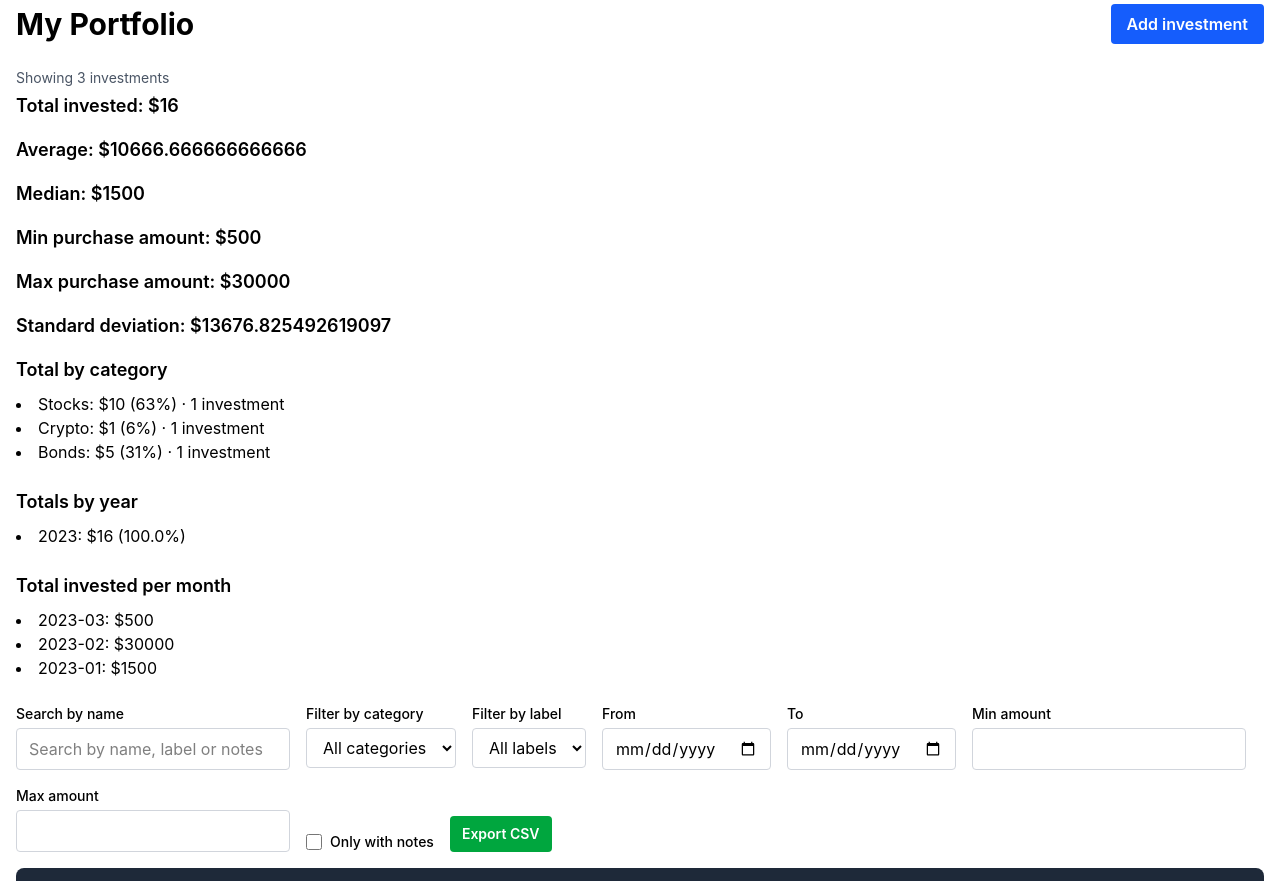
Test case: HomePage › filter by category › AC-003: selecting "All categories" shows every investment again
Select "Stocks" in the dropdown labelled "Filter by category": [381, 748] box [306,728,456,768]
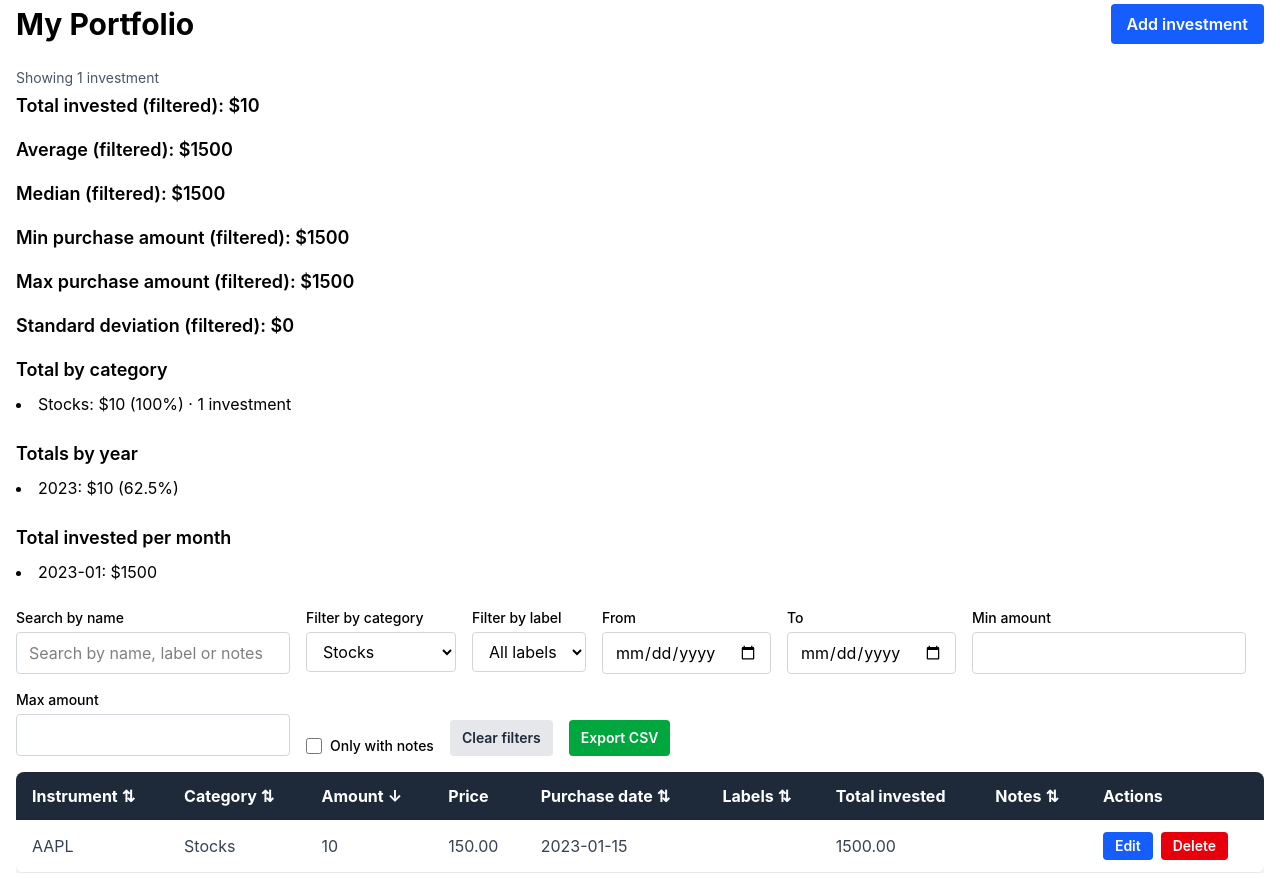
Select "All categories" in the dropdown labelled "Filter by category": [381, 652] box [306,632,456,672]
(page scrolled)
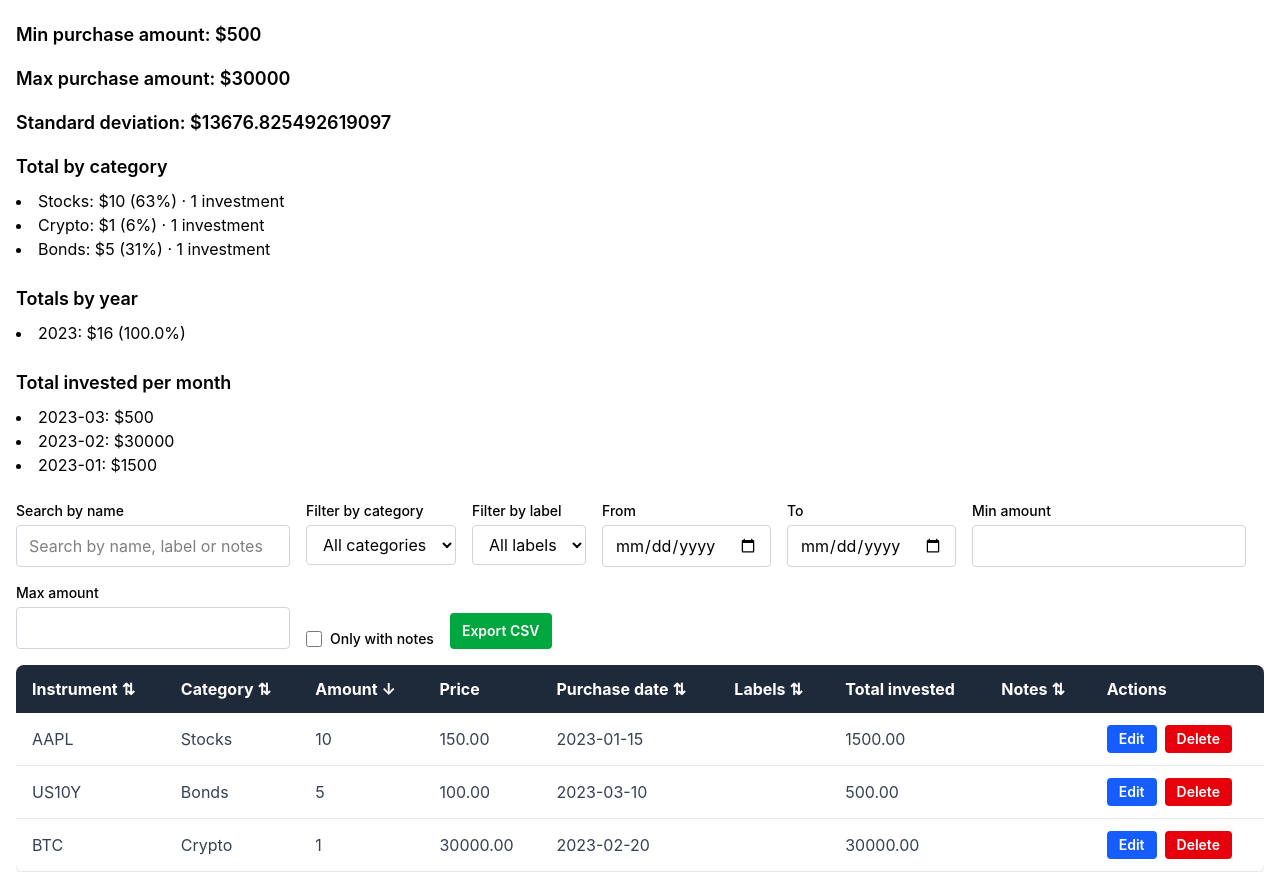
expect the cell "AAPL" is shown: met, box [16,713,165,766]
expect the cell "BTC" is shown: met, box [16,818,165,872]
expect the cell "US10Y" is shown: met, box [16,766,165,818]
